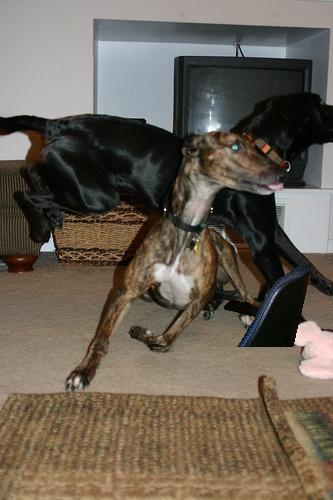tampered: (147, 263, 312, 347)
